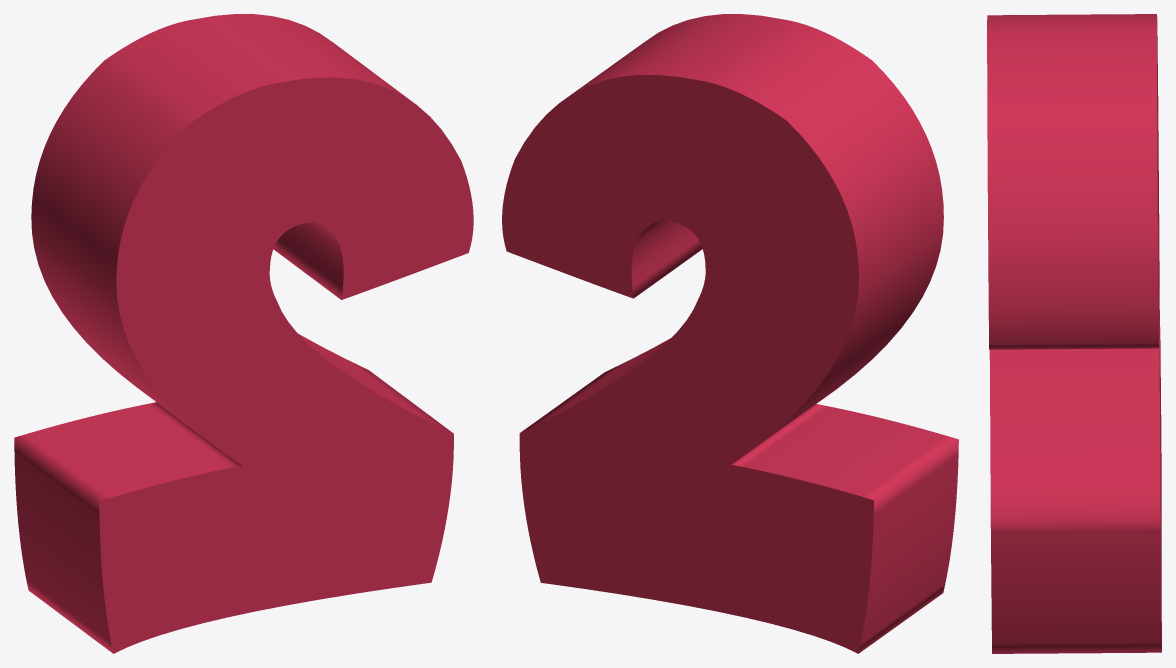
3 views of the same model, side by side, from view 1: azimuth 30°, elevation 25°; view 2: azimuth 150°, elevation 25°; view 3: azimuth 270°, elevation 25° (orthographic).
Visible parts, largest first — view 1: Text; view 2: Text; view 3: Text.
Boxes of the visible parts, x1,y1,x2,y2 form: Text: (14, 14, 473, 653); Text: (502, 14, 958, 653); Text: (987, 14, 1161, 653).
Size of the model in its own units: 10.81 by 14.97 by 4.39.
